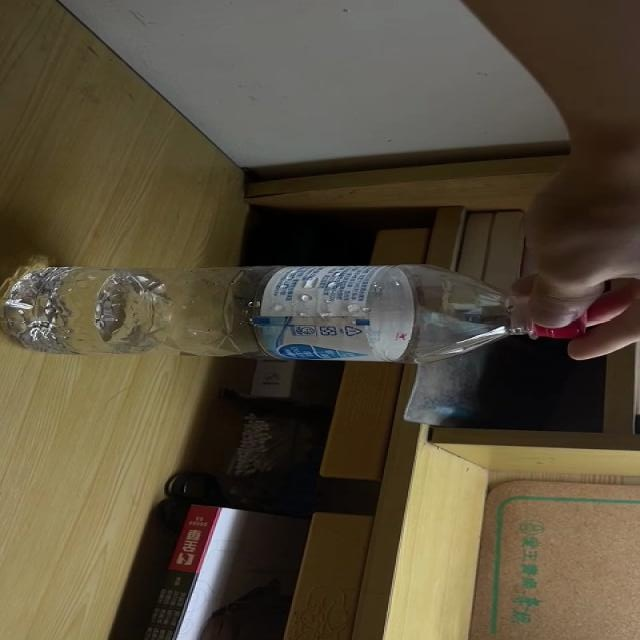Water: (0, 266, 591, 362)
